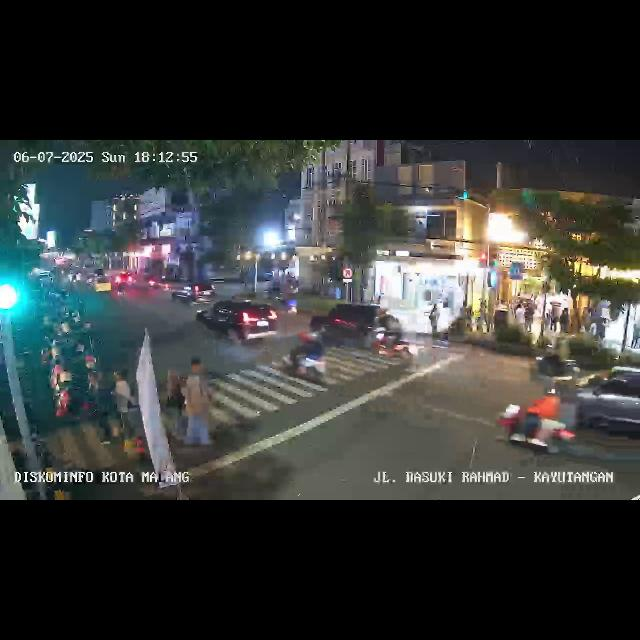car: (570, 366, 640, 452), (196, 298, 276, 346), (312, 303, 388, 343), (170, 282, 218, 304), (91, 272, 111, 294)
motorcycle: (500, 389, 578, 459), (278, 325, 330, 391), (368, 312, 416, 368), (532, 343, 580, 391), (279, 289, 299, 315)
person: (108, 371, 140, 449), (185, 374, 212, 450), (164, 368, 186, 442), (188, 358, 210, 382), (428, 303, 438, 335), (549, 303, 559, 333), (630, 319, 640, 349), (560, 305, 570, 333), (516, 302, 526, 330), (598, 318, 606, 348)
